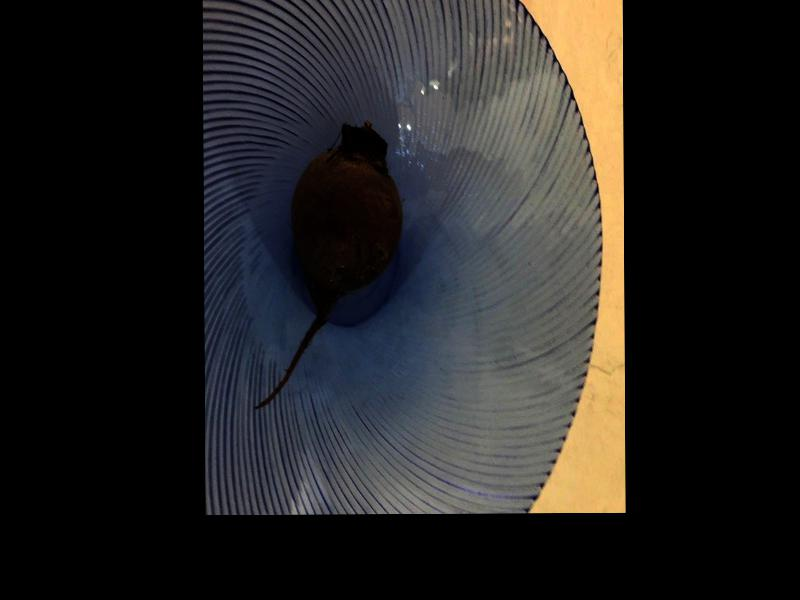Beet: (254, 123, 401, 408)
